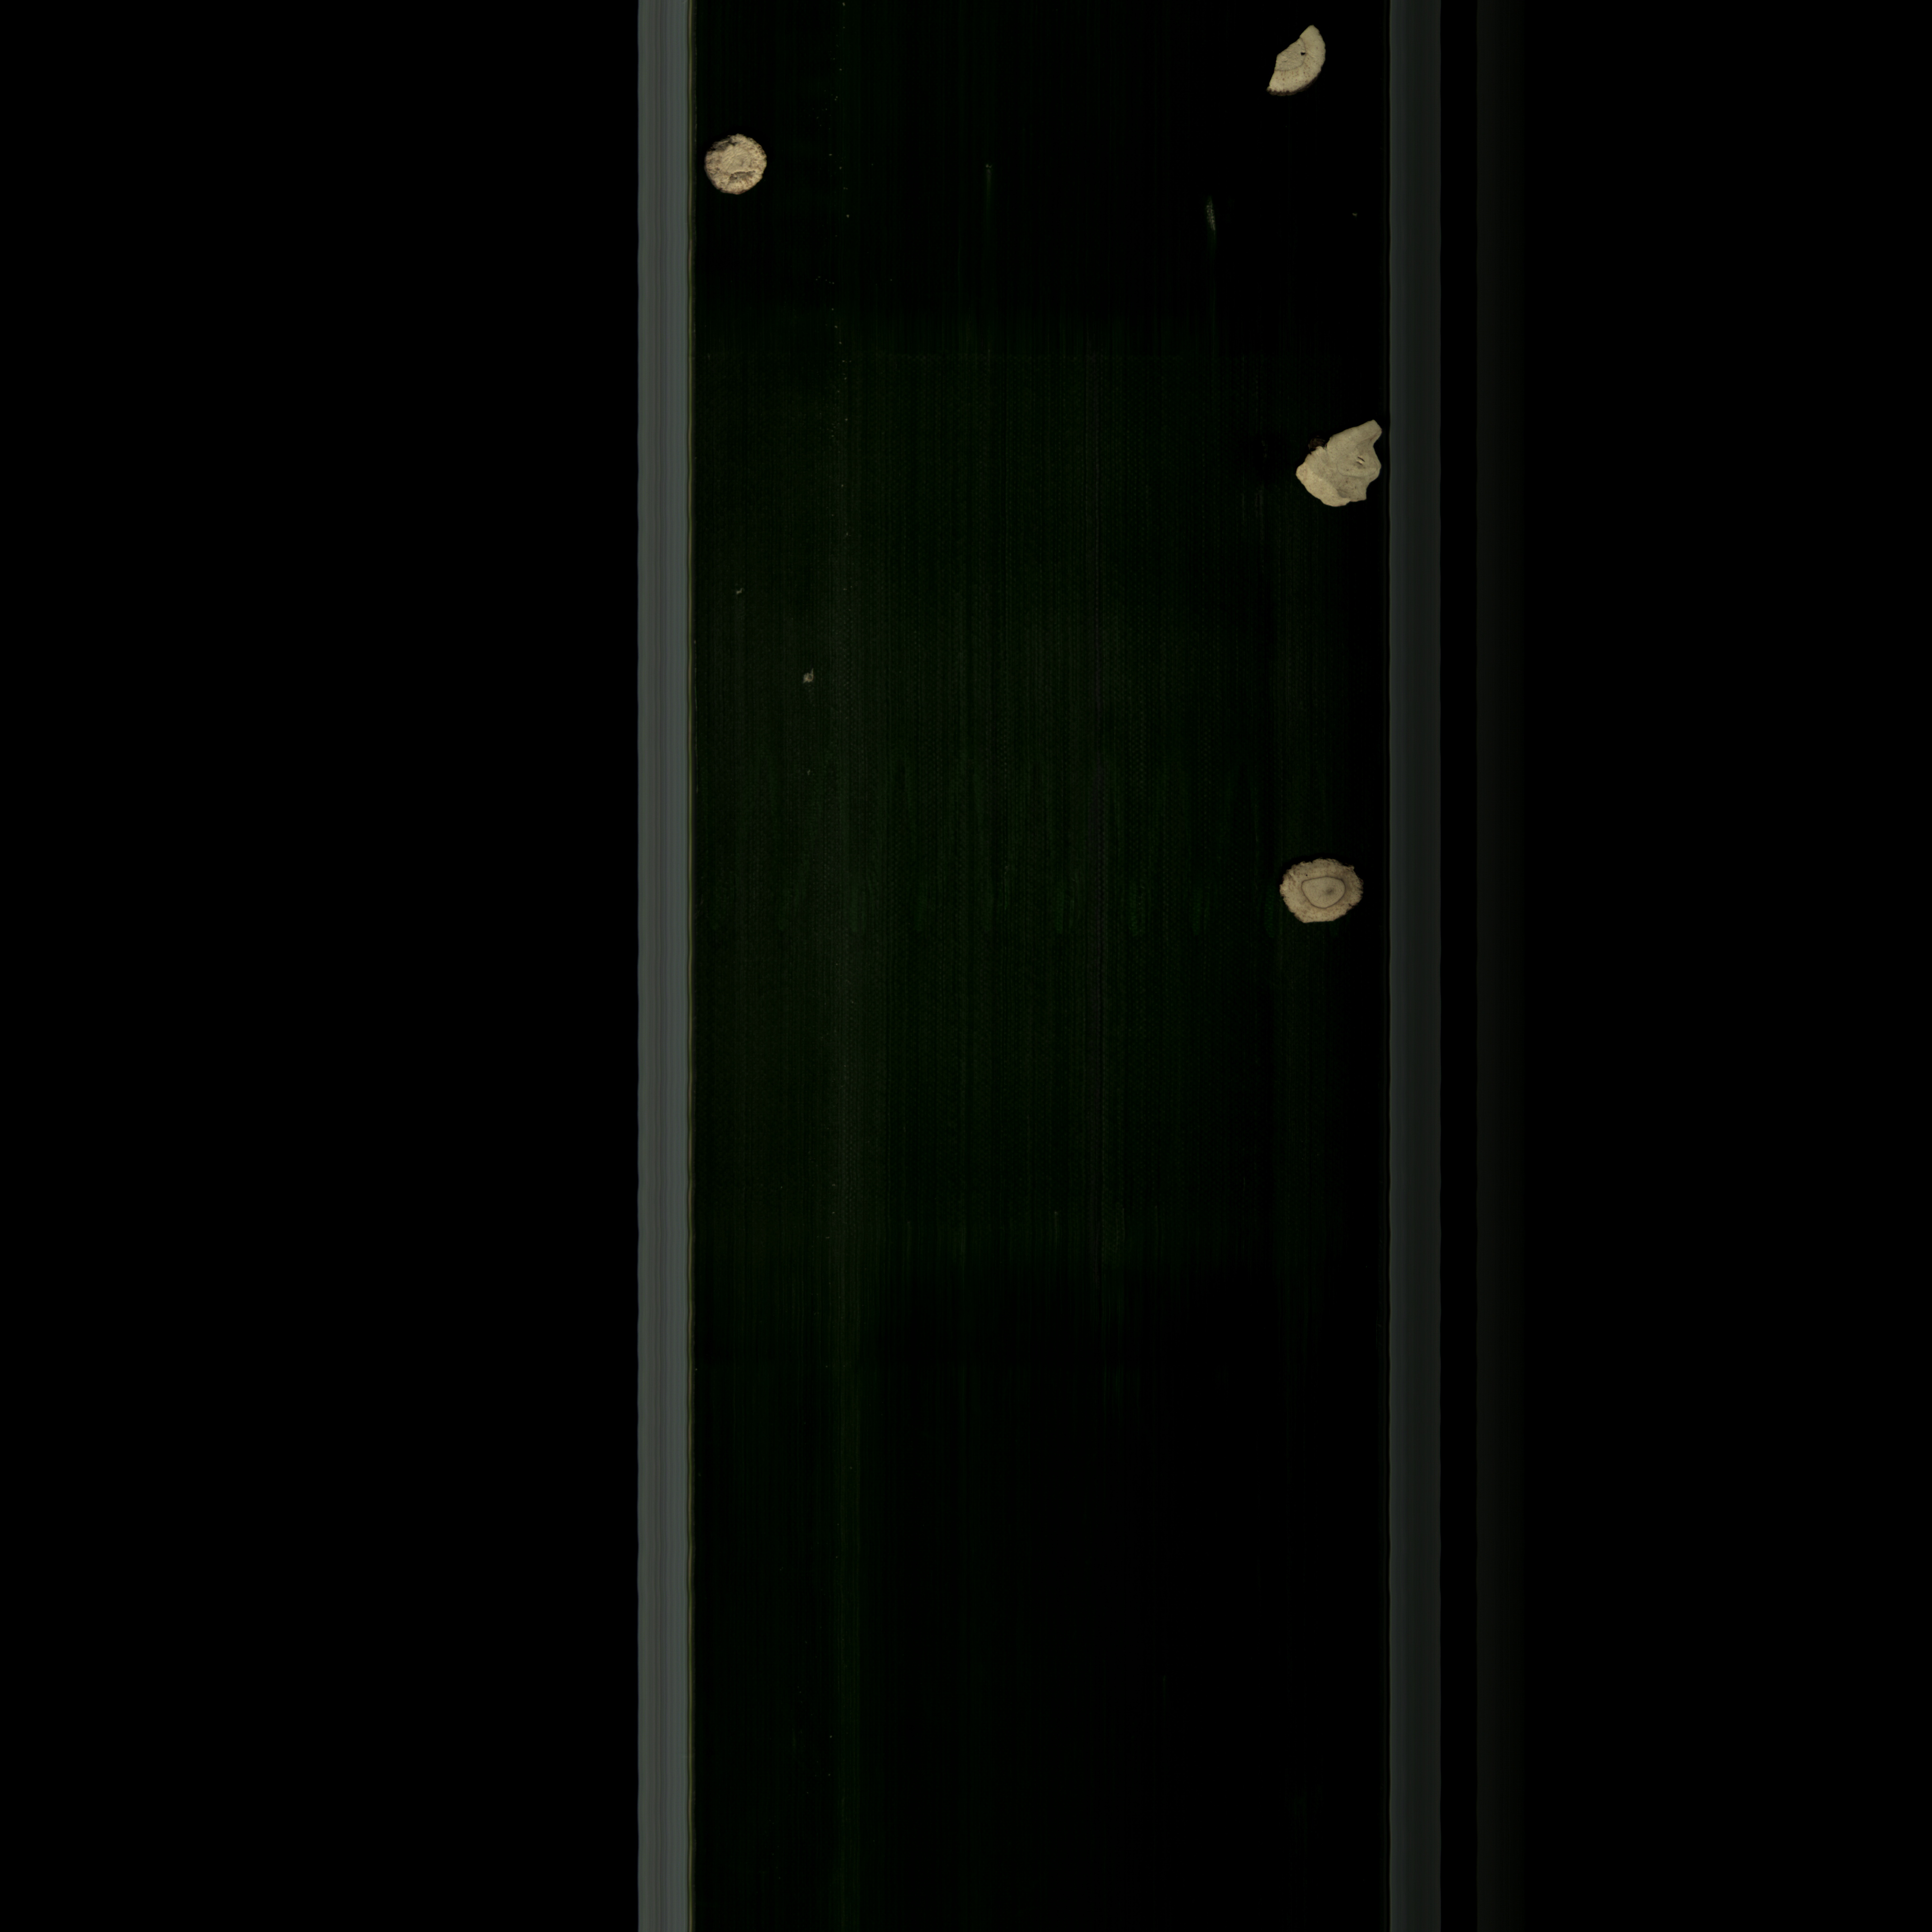debris: (1284, 418, 1385, 513), (1258, 25, 1339, 97)
moldy: (1267, 855, 1380, 931), (701, 131, 773, 203)
